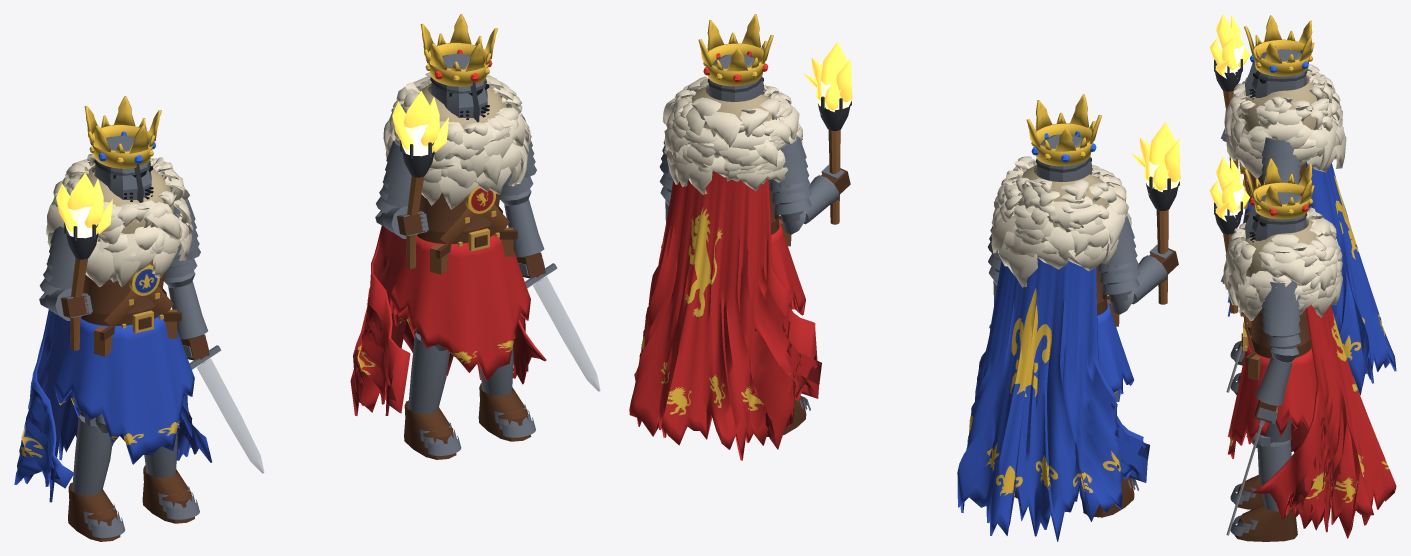
The model's file is ringhold_kings.glb.
The picture shows the model from 3 angles, left to right: view 1: azimuth 30°, elevation 25°; view 2: azimuth 150°, elevation 25°; view 3: azimuth 270°, elevation 25°; orthographic projection. The views are drawn at different scales.
Visible parts, largest first — view 1: king_blue_armor, king_red_armor, king_red_skirt, king_blue_skirt, king_red_fur, king_blue_fur, king_red_cape, king_blue_cape, king_red_crown_mesh, king_blue_crown_mesh, king_blue_torch_flame, king_red_torch_flame (+6 smaller); view 2: king_red_cape, king_blue_cape, king_blue_fur, king_red_fur, king_red_armor, king_blue_armor, king_blue_crown_mesh, king_red_crown_mesh, king_blue_torch_flame, king_red_torch_flame, king_blue_skirt, king_red_skirt (+4 smaller); view 3: king_red_cape, king_red_armor, king_blue_fur, king_red_fur, king_blue_cape, king_red_skirt, king_blue_crown_mesh, king_red_crown_mesh, king_blue_armor, king_red_torch_flame, king_blue_torch_flame, king_blue_helm (+4 smaller).
Boxes of the visible parts, x1=… form: king_blue_armor: x1=39, y1=199, x2=209, y2=541; king_red_armor: x1=375, y1=115, x2=545, y2=459; king_red_skirt: x1=390, y1=234, x2=530, y2=381; king_blue_skirt: x1=54, y1=316, x2=194, y2=464; king_red_fur: x1=383, y1=72, x2=530, y2=209; king_blue_fur: x1=46, y1=153, x2=193, y2=287; king_red_cape: x1=350, y1=225, x2=546, y2=415; king_blue_cape: x1=14, y1=310, x2=212, y2=502; king_red_crown_mesh: x1=420, y1=14, x2=497, y2=86; king_blue_crown_mesh: x1=84, y1=96, x2=161, y2=168; king_blue_torch_flame: x1=56, y1=173, x2=112, y2=238; king_red_torch_flame: x1=392, y1=90, x2=448, y2=156; king_red_cape: x1=629, y1=170, x2=821, y2=460; king_blue_cape: x1=957, y1=258, x2=1149, y2=541; king_blue_fur: x1=991, y1=156, x2=1131, y2=287; king_red_fur: x1=662, y1=76, x2=802, y2=194; king_red_armor: x1=659, y1=136, x2=850, y2=436; king_blue_armor: x1=988, y1=209, x2=1178, y2=517; king_blue_crown_mesh: x1=1026, y1=94, x2=1101, y2=166; king_red_crown_mesh: x1=698, y1=14, x2=773, y2=86; king_blue_torch_flame: x1=1131, y1=122, x2=1180, y2=194; king_red_torch_flame: x1=803, y1=42, x2=852, y2=114; king_blue_skirt: x1=1097, y1=299, x2=1133, y2=402; king_red_skirt: x1=771, y1=219, x2=805, y2=315; king_red_cape: x1=1252, y1=305, x2=1396, y2=538; king_red_armor: x1=1220, y1=274, x2=1311, y2=541; king_blue_fur: x1=1224, y1=64, x2=1346, y2=178; king_red_fur: x1=1223, y1=207, x2=1342, y2=321; king_blue_cape: x1=1305, y1=162, x2=1396, y2=394; king_red_skirt: x1=1227, y1=335, x2=1316, y2=458; king_blue_crown_mesh: x1=1244, y1=15, x2=1314, y2=76; king_red_crown_mesh: x1=1244, y1=158, x2=1314, y2=219; king_blue_armor: x1=1221, y1=128, x2=1311, y2=394; king_red_torch_flame: x1=1209, y1=157, x2=1249, y2=221; king_blue_torch_flame: x1=1209, y1=14, x2=1249, y2=78; king_blue_helm: x1=1245, y1=49, x2=1307, y2=99.
Bounding box in the file's own units: 2.89 × 2.05 × 0.9963.
Materials: 25 (6 with a texture image).
